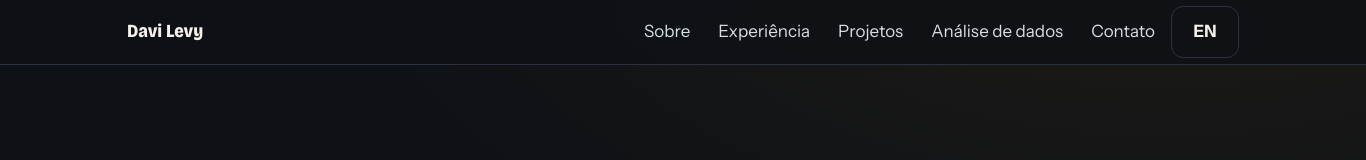
Test: SiteHeader › troca para inglês, ajusta o lang e salva a escolha
This screenshot has width=1366, height=160.
Click the button with test id "trocar-idioma".
click(1205, 32)  # box [1171,6,1239,58]
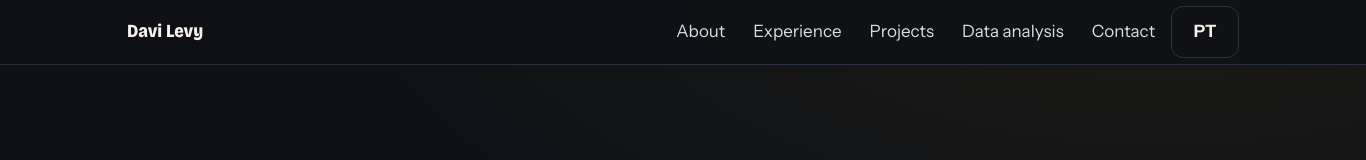
Check: the text "About" is shown, box [676,21,725,41]
